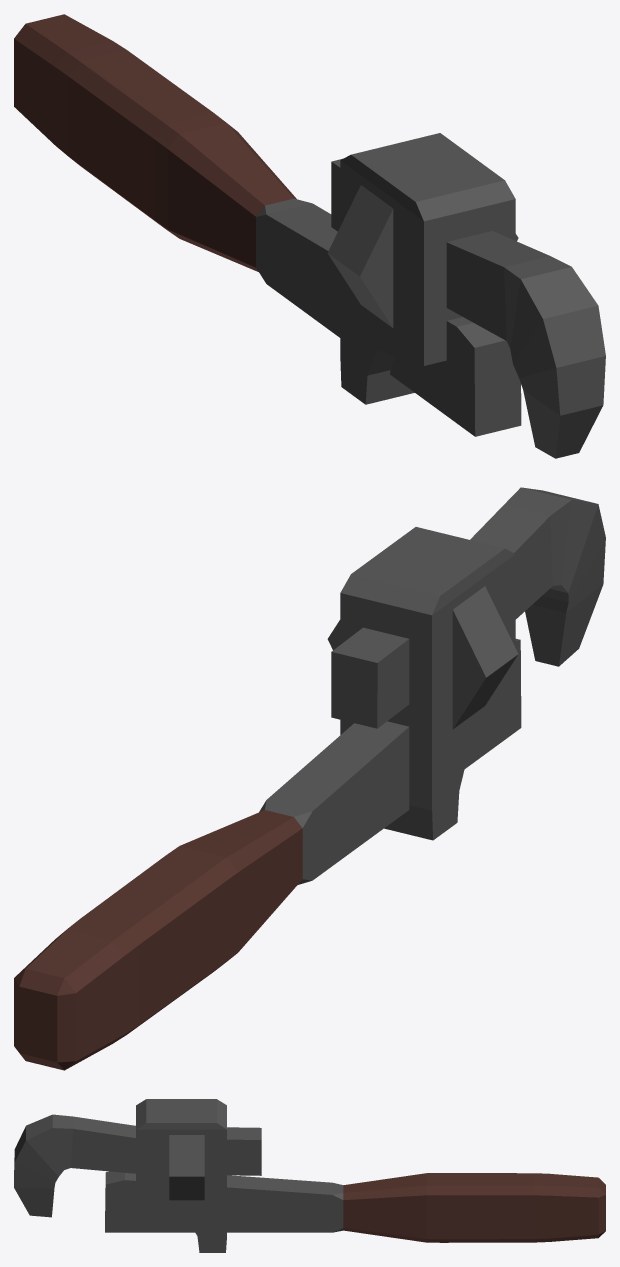
The model's file is Wrench.glb.
3 views of the same model, one above another, from view 1: azimuth 30°, elevation 25°; view 2: azimuth 150°, elevation 25°; view 3: azimuth 270°, elevation 25° (orthographic). The views are drawn at different scales.
Visible parts, largest first — view 1: Cube, Cylinder; view 2: Cube, Cylinder; view 3: Cube, Cylinder.
Boxes of the visible parts, x1=… form: Cube: x1=14, y1=14, x2=605, y2=458; Cylinder: x1=327, y1=185, x2=518, y2=327; Cube: x1=14, y1=487, x2=605, y2=1070; Cylinder: x1=327, y1=586, x2=518, y2=729; Cube: x1=14, y1=1099, x2=605, y2=1252; Cylinder: x1=169, y1=1135, x2=204, y2=1200.
Size of the model in its own units: 0.7538 by 1.08 by 4.47.
